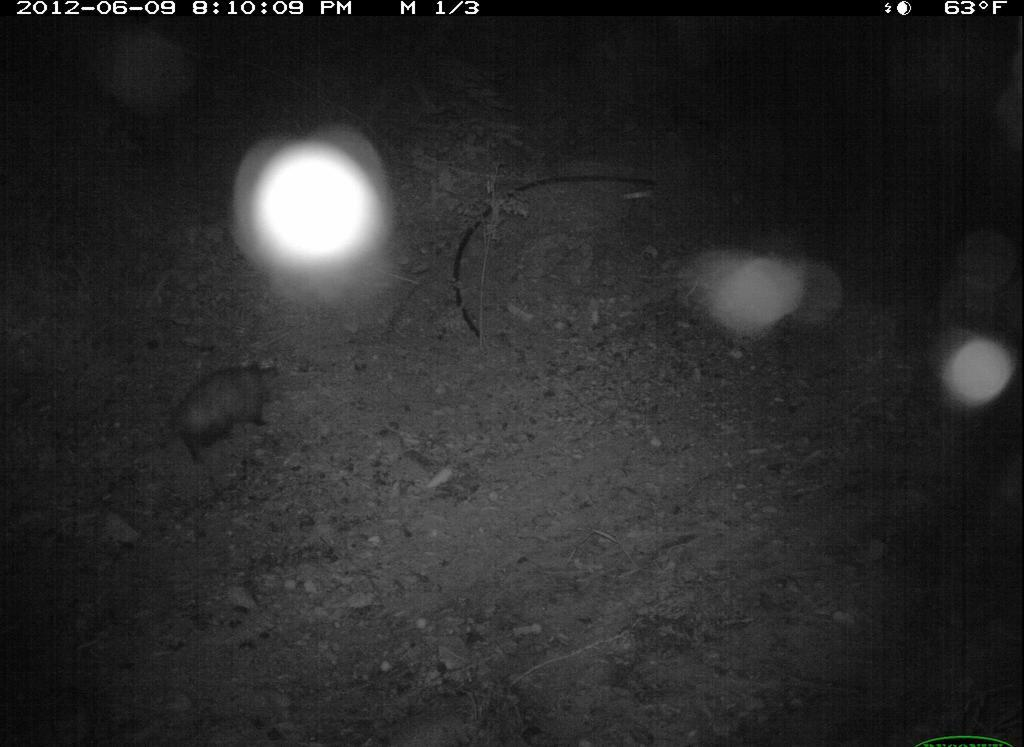opossum: (148, 359, 295, 460)
